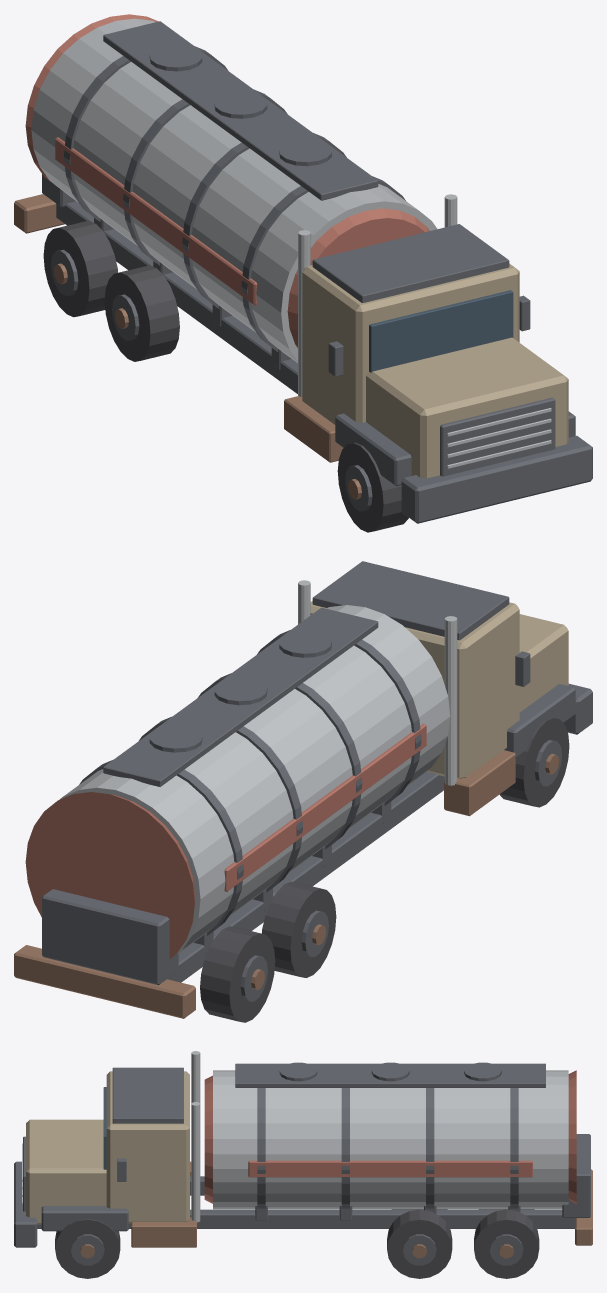
The model's file is oil_tanker.glb.
3 renders of one model, top to bottom at view 1: azimuth 30°, elevation 25°; view 2: azimuth 150°, elevation 25°; view 3: azimuth 270°, elevation 25°, orthographic. The views are drawn at different scales.
Parts seen in each view (by area): view 1: TankBody, EngineHood, CabBody, TopCatwalk, CabRoofRack, FrontBumper, Windshield, Rail_-0.75, Wheel_2.2_-1.22, GrilleFrame, HazardStripe, Wheel_3.85_-1.22 (+17 smaller); view 2: TankBody, TankCap_5.0, TopCatwalk, CabBody, RearValveBox, CabRoofRack, Rail_-0.75, RearBumper, Wheel_3.85_-1.22, HazardStripe, Wheel_2.2_-1.22, EngineHood (+15 smaller); view 3: TankBody, CabBody, EngineHood, TopCatwalk, Rail_0.75, HazardStripe, CabRoofRack, Wheel_2.2_1.22, Wheel_3.85_1.22, Wheel_-4.1_1.22, Fender_1.3, FuelStep_1.3 (+18 smaller).
Boxes of the visible parts, box(x1,y1,x2,y2) form: TankBody: box(31, 18, 437, 362); EngineHood: box(366, 337, 568, 478); CabBody: box(302, 263, 519, 424); TopCatwalk: box(103, 21, 378, 200); CabRoofRack: box(312, 224, 509, 302); FrontBumper: box(401, 435, 592, 523); Windshield: box(369, 290, 513, 372); Rail_-0.75: box(56, 201, 297, 393); Wheel_2.2_-1.22: box(104, 265, 179, 361); GrilleFrame: box(440, 397, 555, 476); HazardStripe: box(55, 137, 257, 305); Wheel_3.85_-1.22: box(43, 220, 117, 317); TankBody: box(59, 605, 450, 954); TankCap_5.0: box(25, 792, 195, 958); TopCatwalk: box(103, 607, 378, 786); CabBody: box(310, 601, 519, 778); RearValveBox: box(42, 889, 178, 985); CabRoofRack: box(312, 561, 509, 640); Rail_-0.75: box(167, 771, 444, 982); RearBumper: box(14, 945, 195, 1018); Wheel_3.85_-1.22: box(200, 926, 275, 1022); HazardStripe: box(224, 723, 426, 891); Wheel_2.2_-1.22: box(261, 881, 336, 977); EngineHood: box(519, 614, 568, 712); TankBody: box(213, 1070, 568, 1209); CabBody: box(106, 1071, 189, 1223); EngineHood: box(26, 1119, 106, 1224); TopCatwalk: box(235, 1063, 545, 1087); Rail_0.75: box(37, 1209, 575, 1228); HazardStripe: box(248, 1160, 532, 1177); CabRoofRack: box(112, 1067, 183, 1123); Wheel_2.2_1.22: box(387, 1209, 452, 1278); Wheel_3.85_1.22: box(474, 1209, 539, 1278); Wheel_-4.1_1.22: box(55, 1219, 120, 1278); Fender_1.3: box(41, 1206, 128, 1231); FuelStep_1.3: box(131, 1217, 196, 1247).
Bounding box in the file's own units: 3.14 × 3.69 × 10.99.
